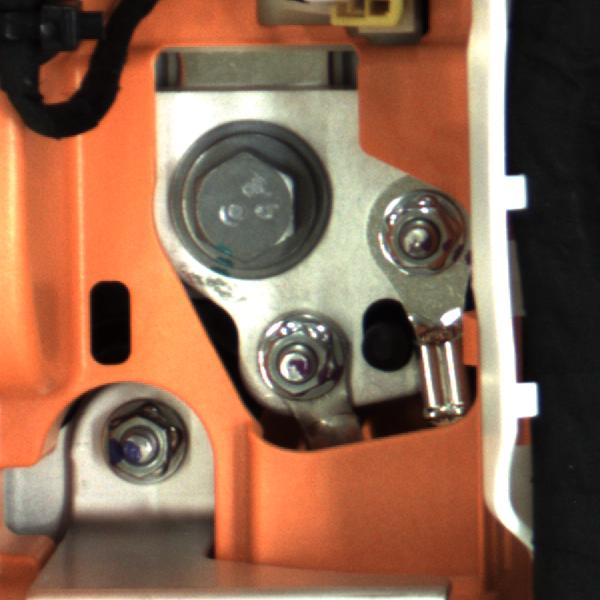nut_b: (171, 119, 324, 268)
screw_s: (359, 173, 464, 294), (78, 397, 198, 496), (251, 305, 356, 404)
